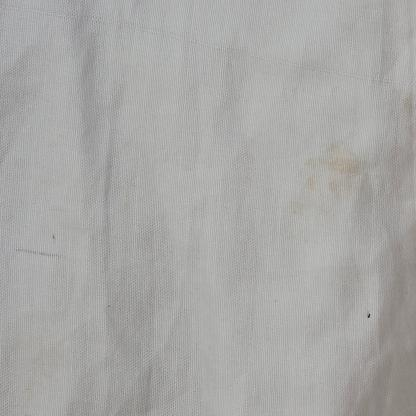spot: (309, 152, 362, 173), (15, 244, 63, 263), (324, 178, 341, 191), (330, 140, 350, 150), (51, 231, 62, 244), (306, 178, 315, 186)
